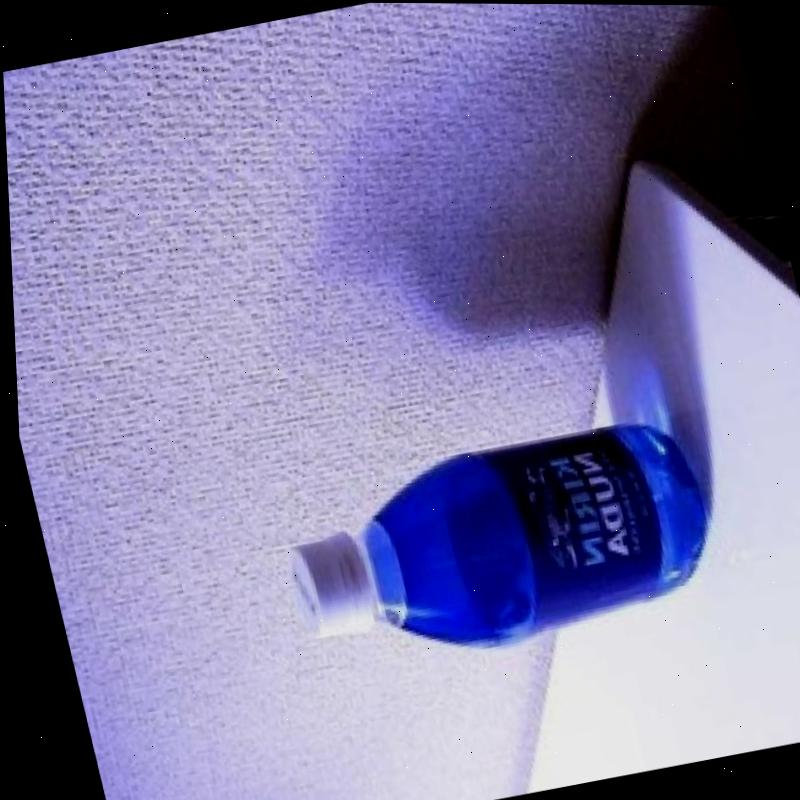botella: (266, 412, 723, 679)
